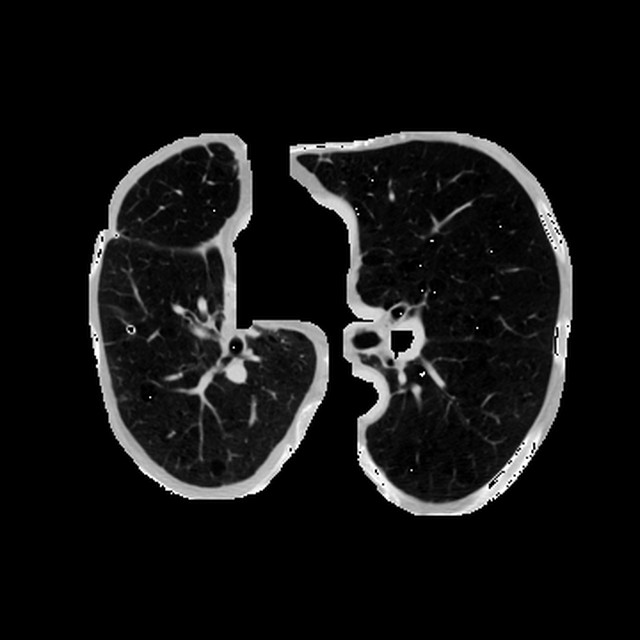PN: (124, 324, 135, 334)
